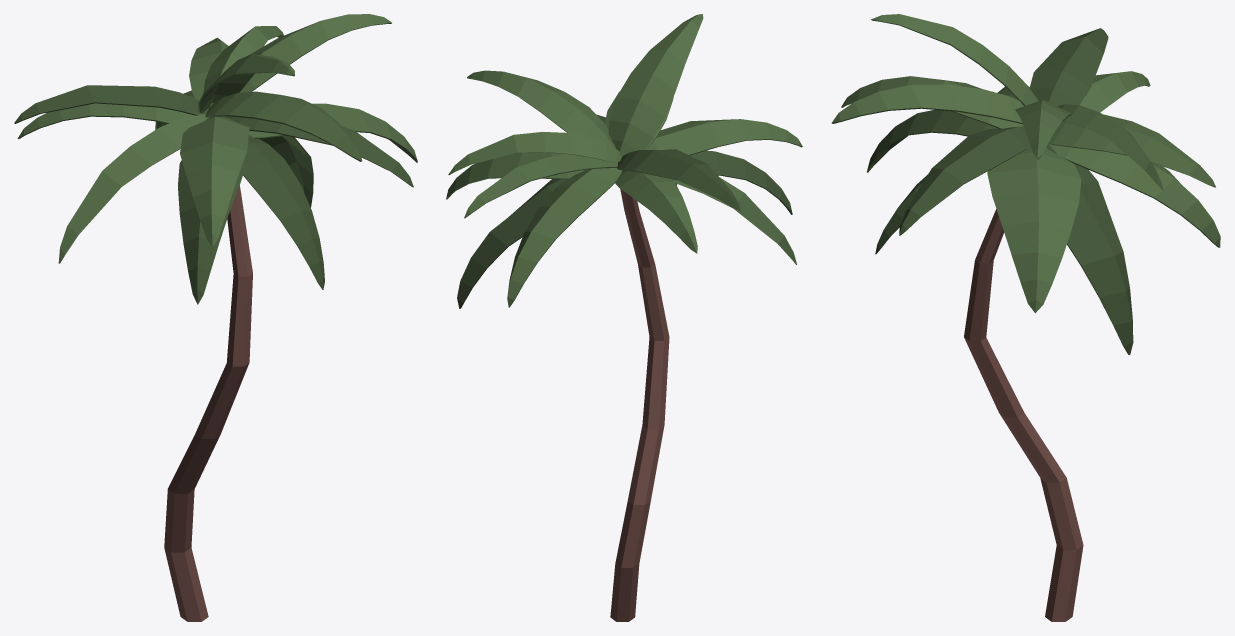
File: palmtree_1.glb
3 renders of one model, left to right at view 1: azimuth 30°, elevation 25°; view 2: azimuth 150°, elevation 25°; view 3: azimuth 270°, elevation 25°, orthographic. The views are drawn at different scales.
Visible parts, largest first — view 1: PalmTree_1; view 2: PalmTree_1; view 3: PalmTree_1.
Boxes of the visible parts, <box> form: PalmTree_1: <box>14,14,417,621</box>; PalmTree_1: <box>446,14,802,621</box>; PalmTree_1: <box>831,14,1220,621</box>.
Size of the model in its own units: 6.9 by 10.73 by 6.26.
